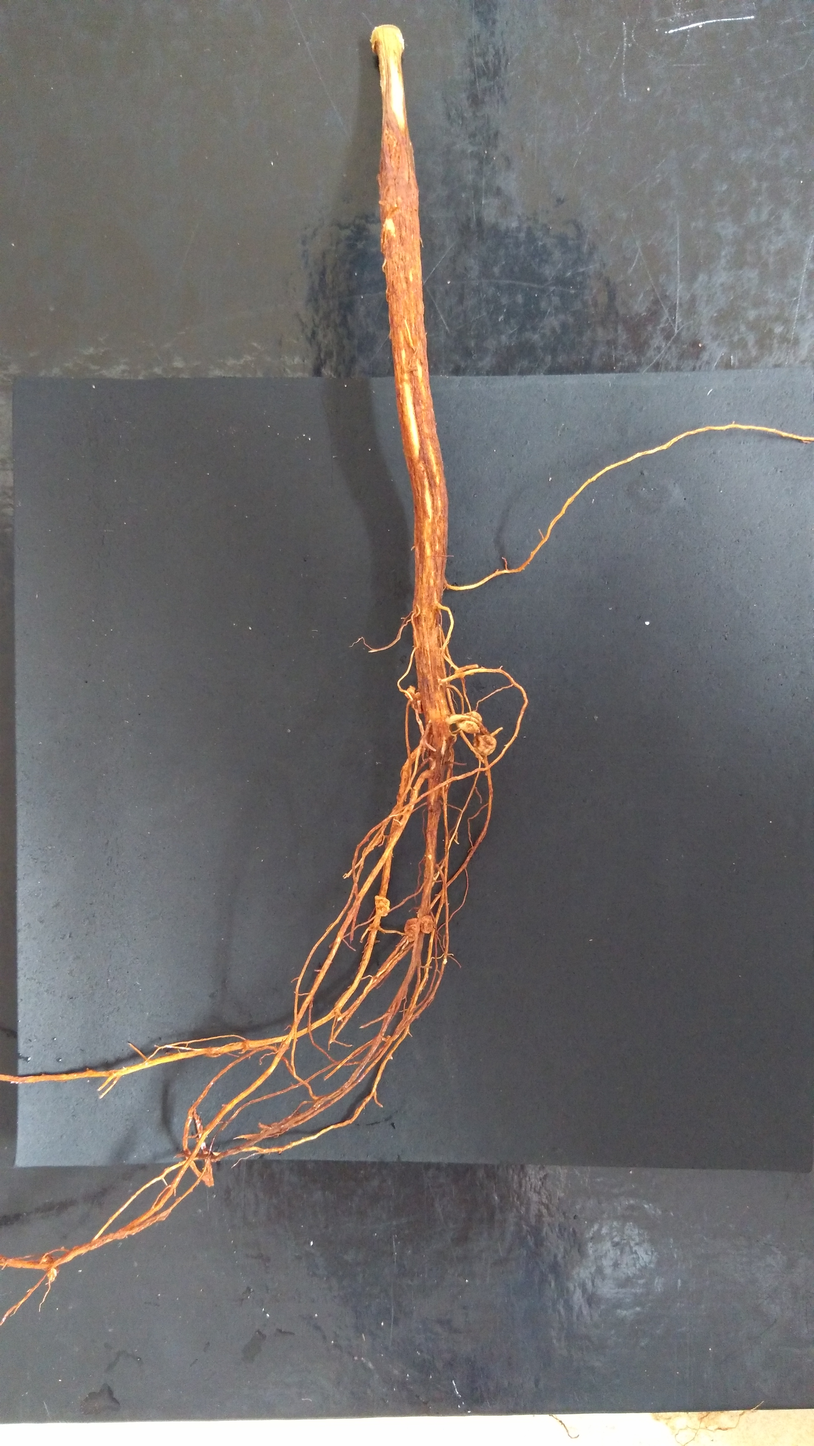nodule: (455, 711, 482, 734), (473, 734, 497, 755), (42, 1253, 57, 1283), (404, 917, 420, 942), (374, 895, 390, 917), (419, 914, 434, 934), (420, 731, 432, 749), (411, 699, 424, 714), (404, 685, 415, 700)
